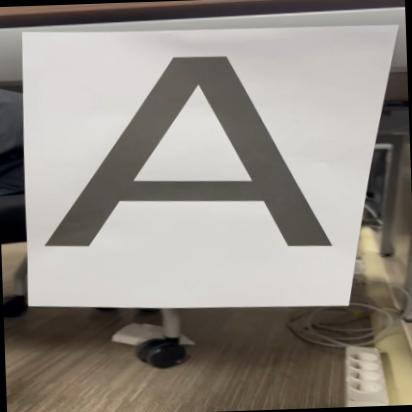seat: (28, 46, 343, 260)
